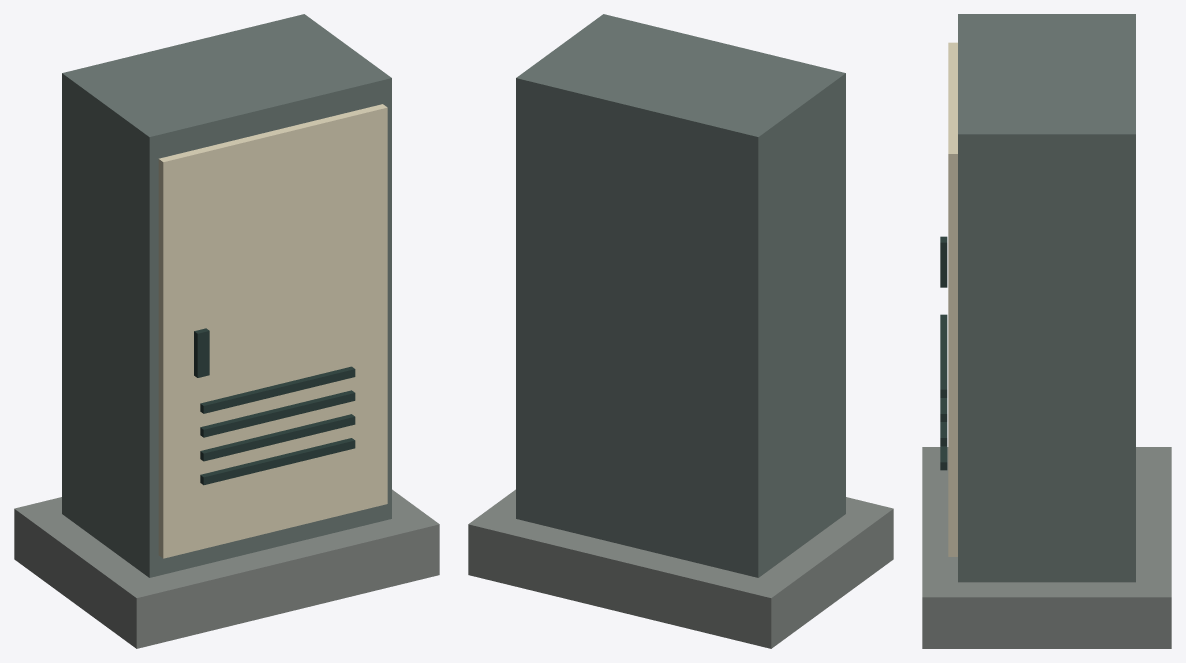
The model's file is UtilityCabinet.obj.
3 views of the same model, side by side, from view 1: azimuth 30°, elevation 25°; view 2: azimuth 150°, elevation 25°; view 3: azimuth 270°, elevation 25° (orthographic).
Visible parts, largest first — view 1: UtilityCabinet; view 2: UtilityCabinet; view 3: UtilityCabinet.
Boxes of the visible parts, x1,y1,x2,y2 form: UtilityCabinet: (14, 14, 439, 648); UtilityCabinet: (468, 14, 893, 648); UtilityCabinet: (922, 14, 1171, 648).
Size of the model in its own units: 1 by 1.55 by 0.7.
Materials: 1 (1 with a texture image).
